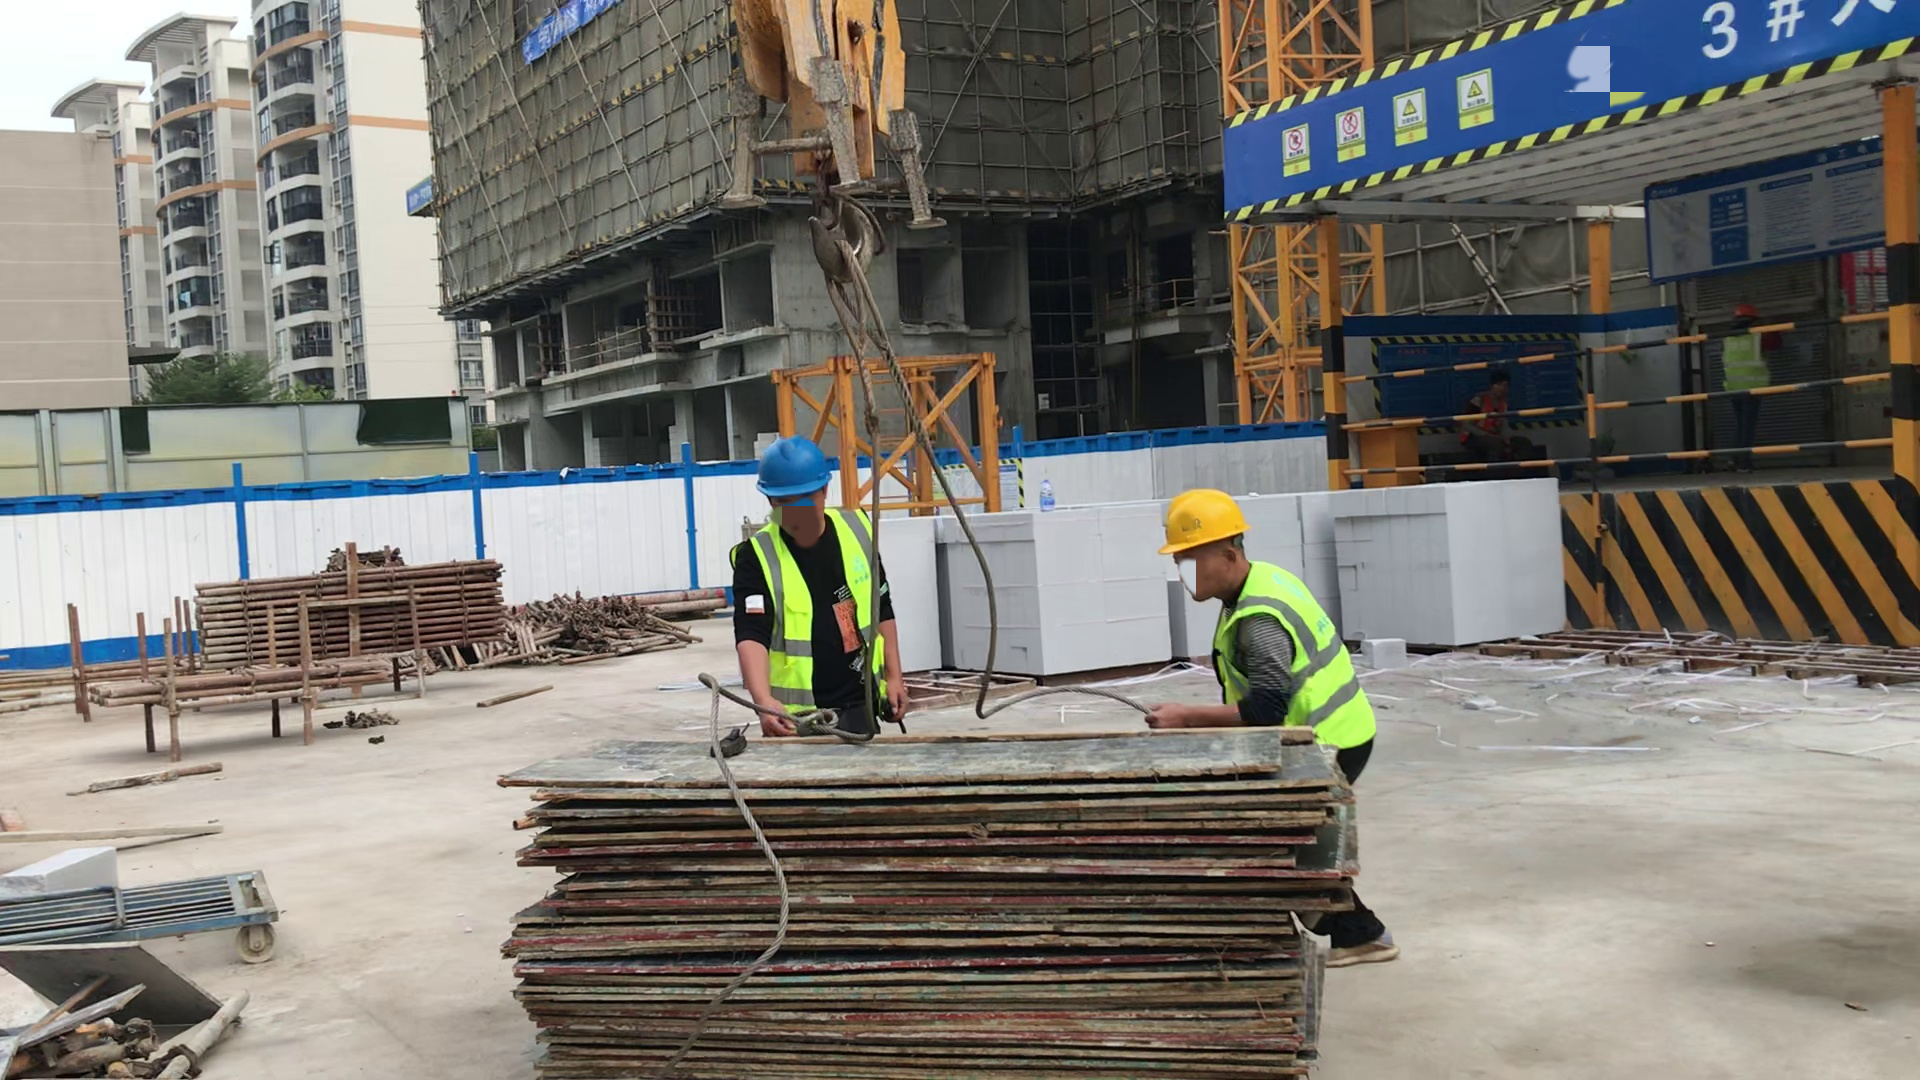board: (491, 721, 1368, 1080)
brick: (872, 479, 1565, 676)
helmet: (1163, 491, 1247, 553), (757, 442, 829, 497), (1730, 305, 1753, 319)
hook: (720, 8, 941, 283)
person: (1154, 489, 1403, 965), (733, 435, 910, 738), (1715, 306, 1767, 475)
scaffold: (184, 557, 515, 646)
slogan: (1280, 62, 1507, 182), (531, 1, 615, 64)
vest: (1183, 565, 1372, 747), (743, 509, 888, 725), (1721, 331, 1766, 395)
